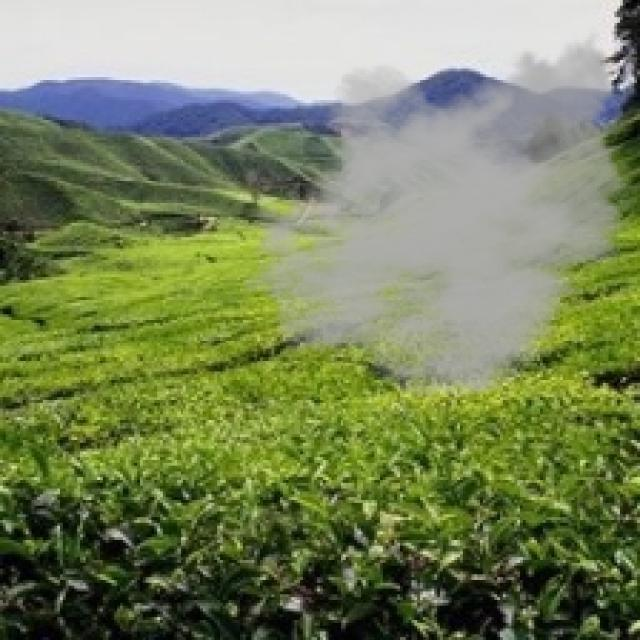smoke: (240, 26, 637, 400)
